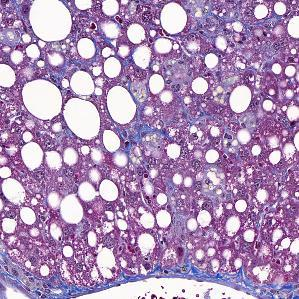fibrosis: (163, 260, 253, 284)
